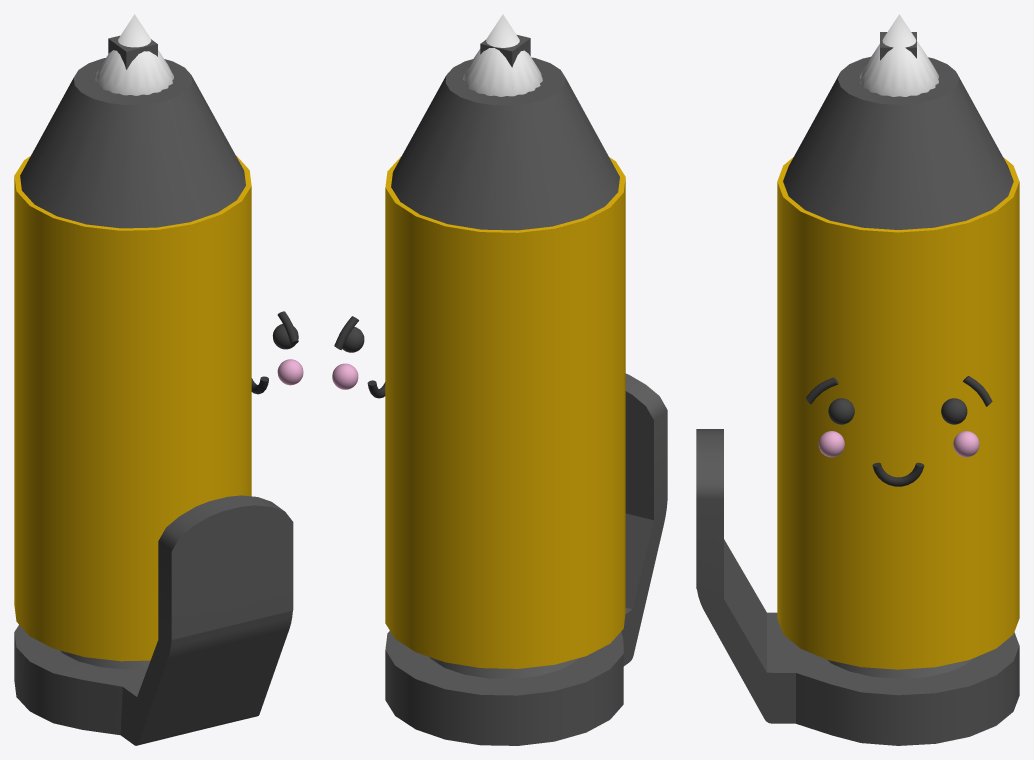
Rendered from PenV5.fbx.
3 views of the same model, side by side, from view 1: azimuth 30°, elevation 25°; view 2: azimuth 150°, elevation 25°; view 3: azimuth 270°, elevation 25° (orthographic).
Visible parts, largest first — view 1: Base1, Ressort1, Mine, RemplaceMine, JoueG; view 2: Base1, Ressort1, Mine, RemplaceMine, JoueD; view 3: Base1, Ressort1, Mine, Bouche, OeilG, JoueD, JoueG, OeilD.
Part boxes in pixels (box(x1,y1,x2,y2)): Base1: box(14, 58, 251, 661); Ressort1: box(14, 495, 293, 745); Mine: box(95, 14, 173, 95); RemplaceMine: box(108, 35, 157, 69); JoueG: box(277, 359, 303, 385); Base1: box(385, 57, 625, 668); Ressort1: box(385, 373, 667, 745); Mine: box(463, 14, 542, 96); RemplaceMine: box(480, 35, 530, 67); JoueD: box(332, 363, 358, 389); Base1: box(777, 57, 1019, 669); Ressort1: box(696, 429, 1019, 745); Mine: box(859, 14, 938, 96); Bouche: box(872, 462, 924, 486); OeilG: box(941, 398, 967, 424); JoueD: box(953, 431, 979, 457); JoueG: box(818, 431, 844, 457); OeilD: box(828, 398, 854, 424).
Bounding box in the file's own units: 2.32 × 6.22 × 2.67.
